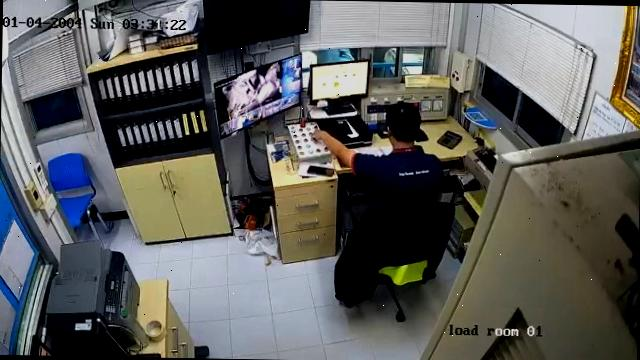Head: (386, 103, 420, 143)
People: (315, 103, 444, 203)
Phone: (307, 165, 333, 176)
